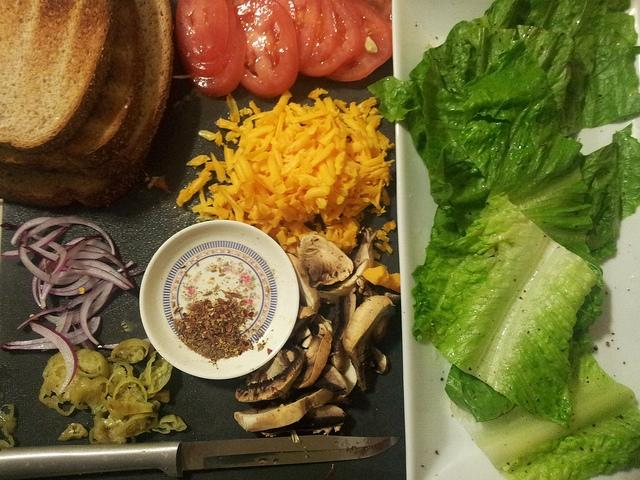lettuce: (410, 192, 596, 428), (458, 120, 606, 348), (444, 1, 640, 137), (450, 354, 640, 480), (463, 40, 557, 140), (582, 143, 622, 261), (445, 364, 516, 422)
mushroom: (342, 294, 397, 392), (234, 388, 336, 432), (236, 344, 306, 402), (296, 232, 354, 288), (260, 405, 347, 437), (331, 288, 357, 394), (293, 330, 332, 388), (286, 253, 320, 311), (316, 259, 369, 296), (314, 362, 348, 398), (348, 227, 377, 269), (370, 344, 389, 376), (296, 302, 317, 322), (302, 334, 312, 348)
onion: (21, 215, 116, 255), (28, 320, 78, 395), (18, 230, 85, 285), (2, 316, 100, 349), (44, 282, 114, 325), (5, 317, 96, 346), (79, 278, 110, 346), (74, 259, 135, 289), (11, 216, 72, 246), (32, 234, 68, 276), (18, 304, 66, 330), (40, 277, 102, 296), (42, 266, 72, 302), (41, 275, 94, 292), (54, 241, 85, 270), (66, 238, 111, 254), (22, 246, 60, 263), (68, 251, 110, 260), (54, 310, 68, 334)
tomato: (233, 0, 300, 98), (326, 0, 392, 82), (188, 13, 246, 97), (301, 0, 364, 77), (176, 2, 236, 78), (175, 0, 229, 64), (365, 1, 392, 33)
